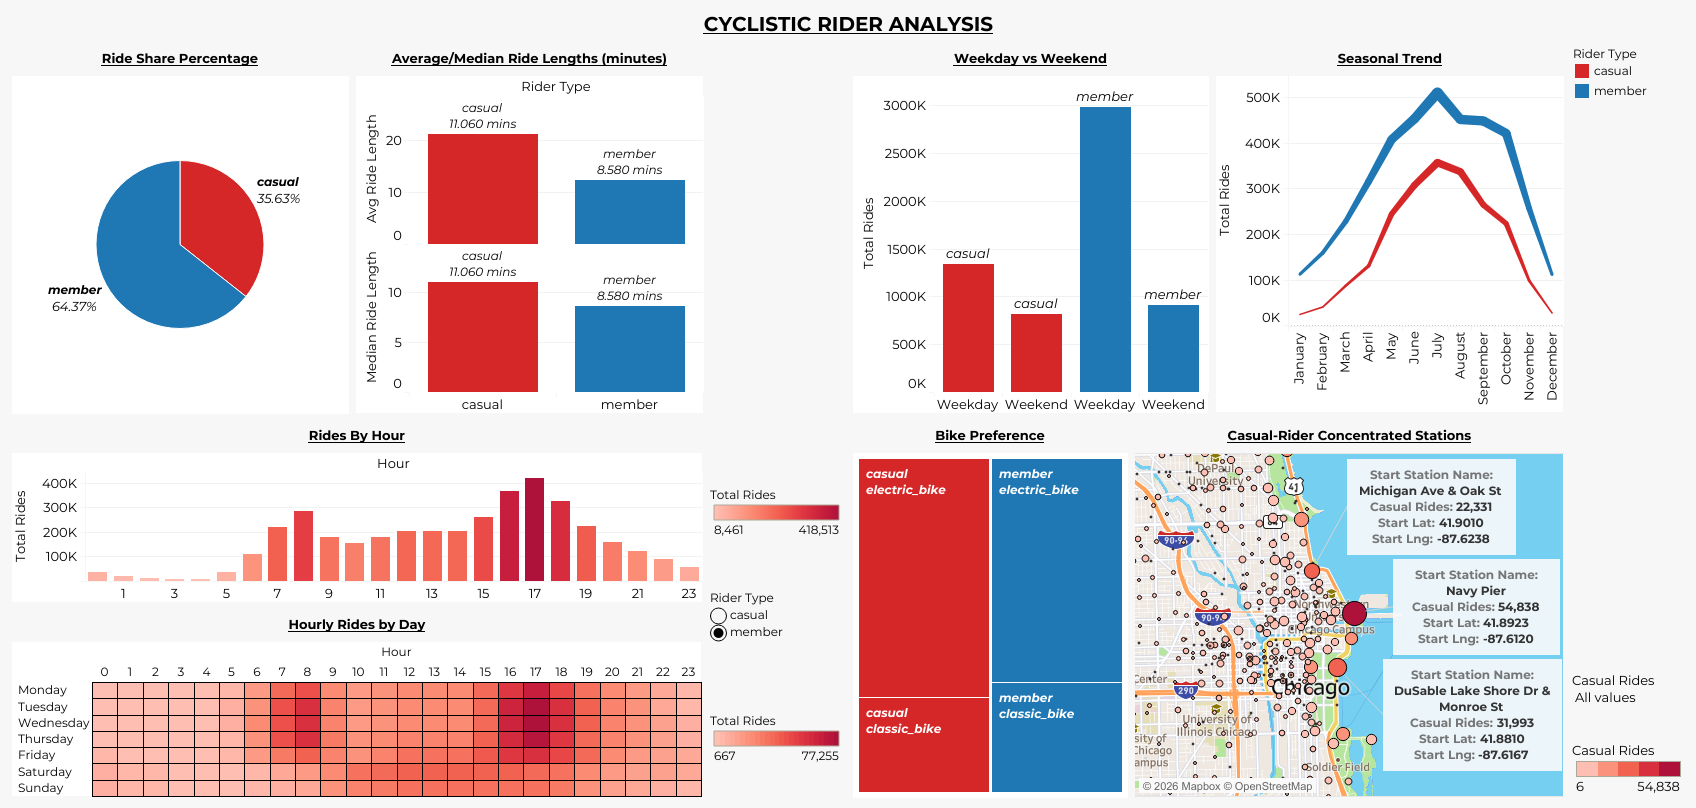

The dashboard page shown, as its layout file describes it:
{"tool":"tableau","page":{"name":"Dashboard 1","canvas":[1000,1000],"units":"permille","ordinal":0},"visuals":[{"type":"text","box":[4.7,9.9,990.6,39.2]},{"type":"worksheet","title":"Ride Share Percentage","mark":"Pie","box":[4.7,49.1,203,465.9]},{"type":"worksheet","title":"Average/Median Ride Lengths","mark":"Automatic","rows":["avg_ride_length","median_ride_length"],"cols":["rider_type"],"box":[207.7,49.1,208.7,465.9]},{"type":"blank","box":[416.3,49.1,84,465.9]},{"type":"worksheet","title":"Weekday vs Weekend","mark":"Automatic","rows":["total_rides"],"cols":["rider_type","day_type"],"box":[500.3,49.1,213.9,465.9]},{"type":"worksheet","title":"Seasonal Trend","mark":"Line","rows":["total_rides"],"cols":["month"],"box":[714.2,49.1,209.9,465.9]},{"type":"legend","title":"Seasonal Trend","param":"[federated.17879wi1kni6nr115y1gx16lg22i].[none:rider_type:nk]","box":[924.2,49.1,71.1,465.9]},{"type":"worksheet","title":"Rides By Hour","mark":"Bar","rows":["total_rides"],"cols":["hour"],"box":[4.7,515,411.6,233.7]},{"type":"blank","box":[416.3,515,83.7,76.8]},{"type":"worksheet","title":"Bike Preference","mark":"Automatic","box":[500,515,166.5,475.1]},{"type":"worksheet","title":"Casual-Rider Concentrated Stations","mark":"Circle","rows":["start_lat"],"cols":["start_lng"],"box":[666.5,515,257.6,475.1]},{"type":"blank","box":[924.1,515,71.2,309.1]},{"type":"legend","title":"Rides By Hour","param":"[federated.1kjub821o2anqe1h8123z1yxfob3].[sum:total_rides:qk]","box":[416.3,591.7,83.7,131.1]},{"type":"filter","title":"Rides By Hour","param":"[federated.1kjub821o2anqe1h8123z1yxfob3].[none:rider_type:nk]","box":[416.3,722.8,83.7,108.8]},{"type":"worksheet","title":"Hourly Rides by Day","mark":"Square","rows":["day_of_week"],"cols":["hour"],"box":[4.7,748.7,411.6,241.4]},{"type":"filter","title":"Casual-Rider Concentrated Stations","param":"[federated.19uyvho033py911grxfk30nsgojv].[sum:casual_rides:qk]","box":[924.1,824.1,71.2,82.8]},{"type":"blank","box":[416.3,831.6,83.7,39.4]},{"type":"legend","title":"Hourly Rides by Day","param":"[federated.0nan1l90aavoxx16ju13i1p57lra].[sum:total_rides:qk]","box":[416.3,871,83.7,119.1]},{"type":"legend","title":"Casual-Rider Concentrated Stations","param":"[federated.19uyvho033py911grxfk30nsgojv].[sum:casual_rides:qk]","box":[924.1,906.9,71.2,83.2]}]}

Visuals, with their boxes on the dashboard's canvas, which has no fixed pixel size, in thousandths of its width and height (x1, y1, x2, y2). These are canvas units, not pixel positions in the 1696x808 screenshot, which may show the page scaled, cropped or inside an application window:
text: 5 10 995 49
"Ride Share Percentage" worksheet (Pie marks): 5 49 208 515
"Average/Median Ride Lengths" worksheet: 208 49 416 515
blank: 416 49 500 515
"Weekday vs Weekend" worksheet: 500 49 714 515
"Seasonal Trend" worksheet (Line marks): 714 49 924 515
"Seasonal Trend" legend: 924 49 995 515
"Rides By Hour" worksheet (Bar marks): 5 515 416 749
blank: 416 515 500 592
"Bike Preference" worksheet: 500 515 666 990
"Casual-Rider Concentrated Stations" worksheet (Circle marks): 666 515 924 990
blank: 924 515 995 824
"Rides By Hour" legend: 416 592 500 723
"Rides By Hour" filter: 416 723 500 832
"Hourly Rides by Day" worksheet (Square marks): 5 749 416 990
"Casual-Rider Concentrated Stations" filter: 924 824 995 907
blank: 416 832 500 871
"Hourly Rides by Day" legend: 416 871 500 990
"Casual-Rider Concentrated Stations" legend: 924 907 995 990
